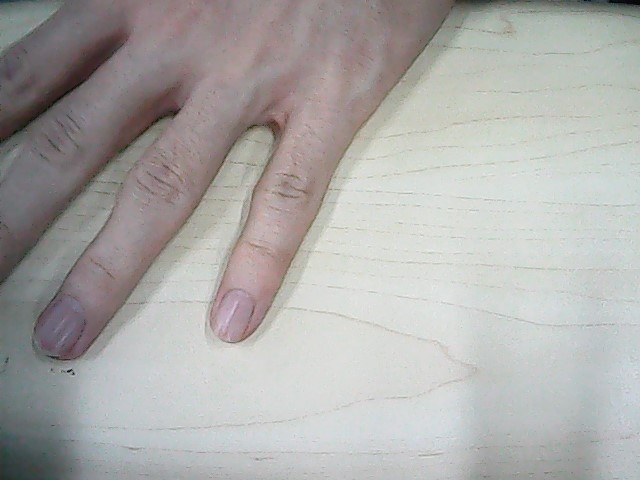nail: (34, 295, 87, 360), (211, 287, 256, 342)
